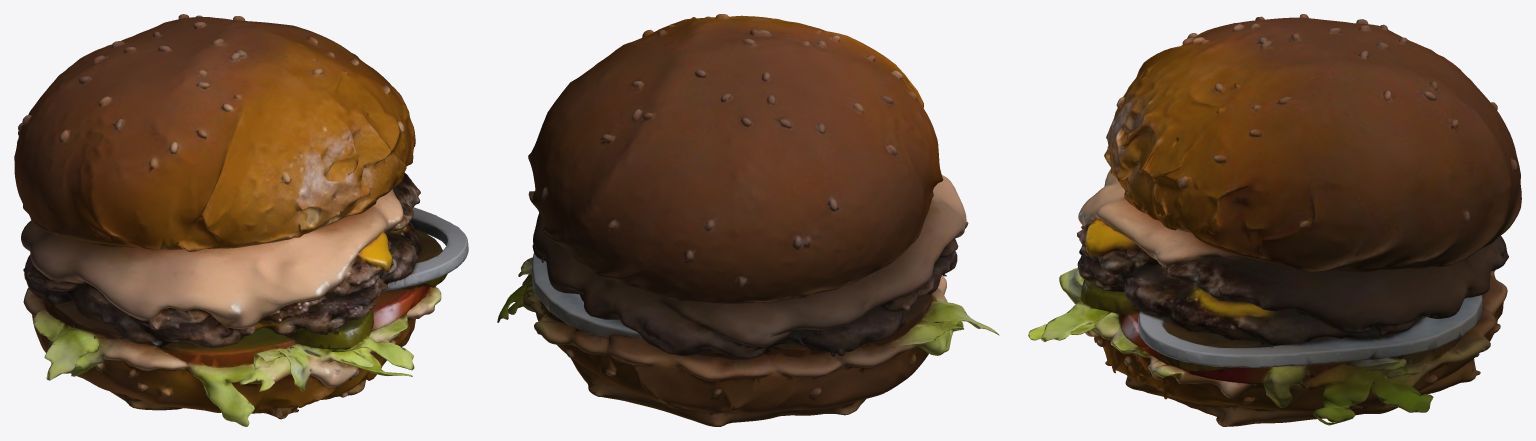
File: hamburguer-simplificado.glb
3 renders of one model, left to right at view 1: azimuth 30°, elevation 25°; view 2: azimuth 150°, elevation 25°; view 3: azimuth 270°, elevation 25°, orthographic. The views are drawn at different scales.
Parts seen in each view (by area): view 1: tripo_node_fdbde4fa-7a82-46e0-aa46-09a35e8c473f; view 2: tripo_node_fdbde4fa-7a82-46e0-aa46-09a35e8c473f; view 3: tripo_node_fdbde4fa-7a82-46e0-aa46-09a35e8c473f.
Boxes of the visible parts, x1,y1,x2,y2 form: tripo_node_fdbde4fa-7a82-46e0-aa46-09a35e8c473f: (14,14,468,426); tripo_node_fdbde4fa-7a82-46e0-aa46-09a35e8c473f: (497,14,999,426); tripo_node_fdbde4fa-7a82-46e0-aa46-09a35e8c473f: (1028,14,1521,426).
Bounding box in the file's own units: 0.11 × 0.08 × 0.11.
1 material, 1 textured.
